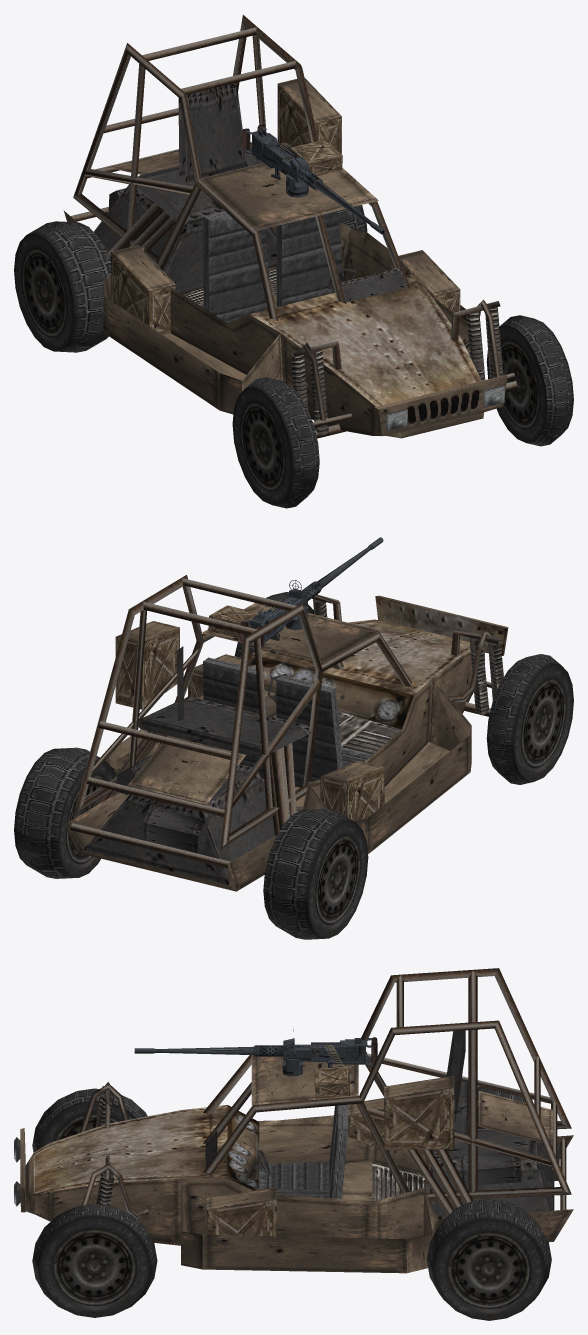
File: FBuggyP.glb
3 views of the same model, one above another, from view 1: azimuth 30°, elevation 25°; view 2: azimuth 150°, elevation 25°; view 3: azimuth 270°, elevation 25° (orthographic). The views are drawn at different scales.
Visible parts, largest first — view 1: _FBuggyP; view 2: _FBuggyP; view 3: _FBuggyP.
Part boxes in pixels (x1,y1,x2,y2): _FBuggyP: (14, 15, 573, 508); _FBuggyP: (14, 537, 573, 939); _FBuggyP: (14, 968, 573, 1320).
Size of the model in its own units: 2.99 by 2.77 by 5.3.
Materials: 3 (3 with a texture image).
